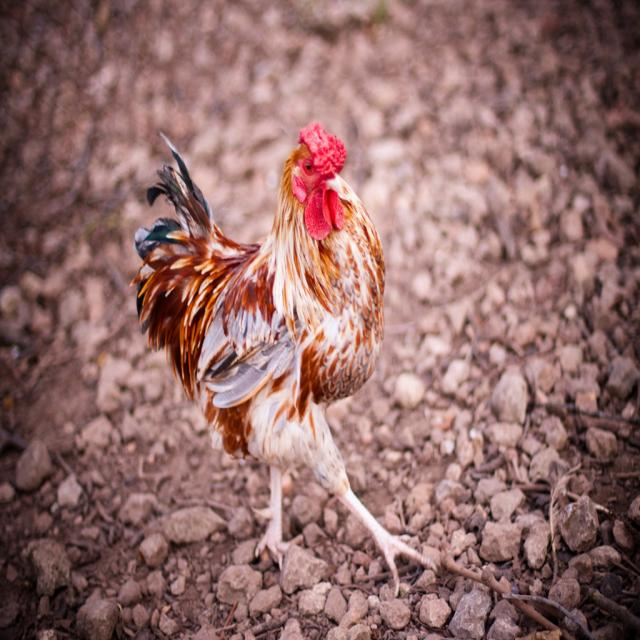Chicken: (130, 116, 420, 584)
